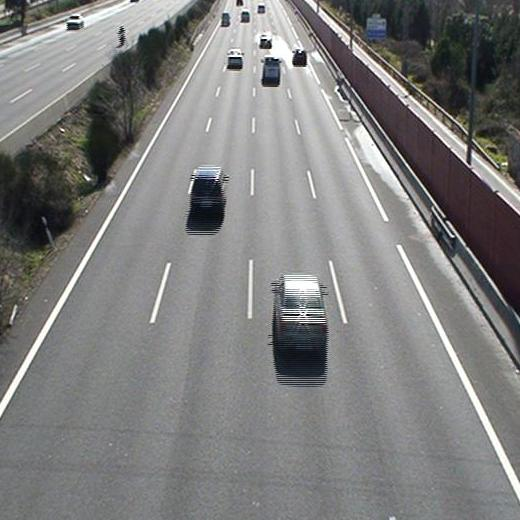car: (272, 275, 329, 363), (188, 167, 228, 212), (227, 48, 244, 70), (291, 49, 308, 65), (259, 33, 273, 48)
van: (261, 55, 282, 85)
